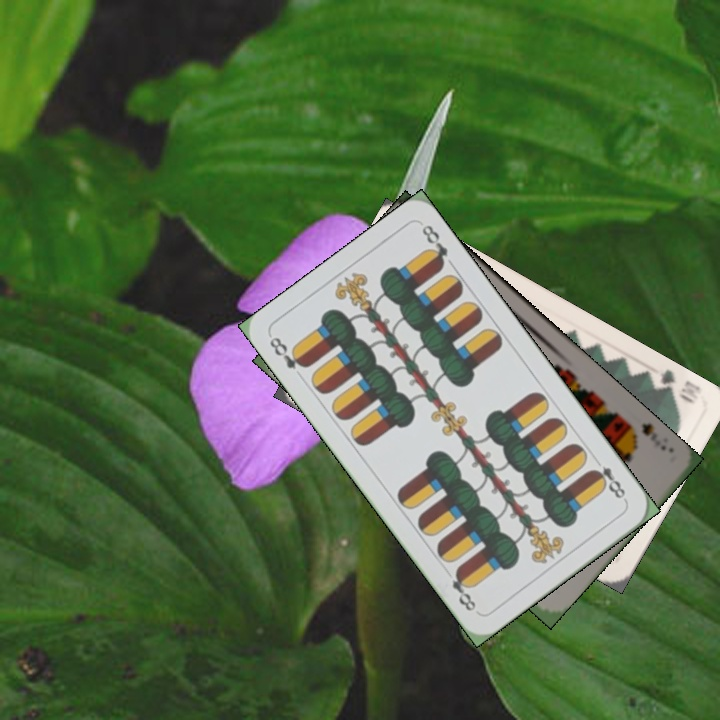E8: (586, 453, 629, 504), (265, 332, 311, 372)
G10: (652, 365, 704, 406)
S9: (637, 418, 670, 454)
